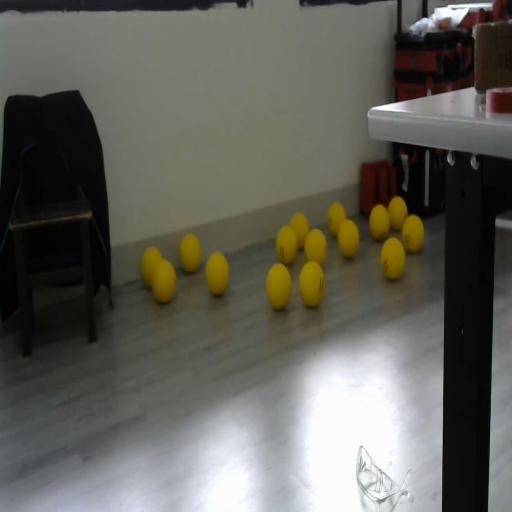FUEL: (298, 259, 326, 308), (266, 262, 292, 310), (204, 250, 230, 296), (380, 237, 406, 281), (140, 245, 164, 288), (304, 228, 328, 268), (178, 233, 202, 273), (337, 219, 360, 259), (402, 214, 425, 252), (369, 204, 391, 241), (289, 212, 309, 249), (388, 196, 408, 231)
